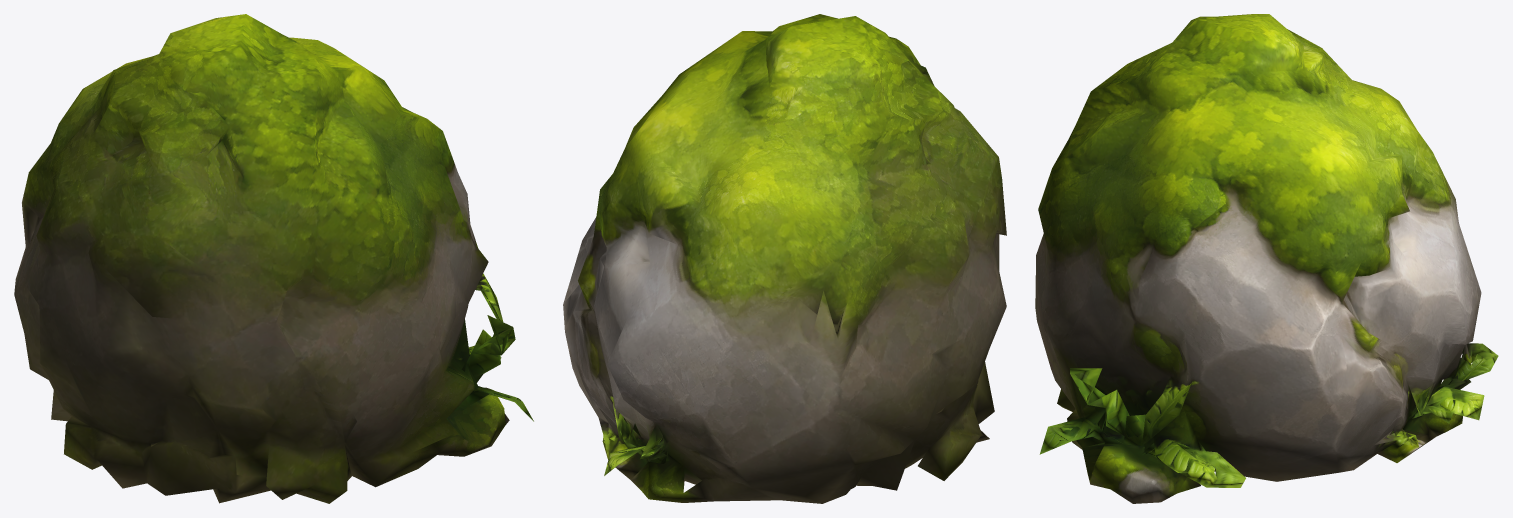
File: W_Boulder_A_raw.glb
The picture shows the model from 3 angles, left to right: view 1: azimuth 30°, elevation 25°; view 2: azimuth 150°, elevation 25°; view 3: azimuth 270°, elevation 25°; orthographic projection. The views are drawn at different scales.
Parts seen in each view (by area): view 1: tripo_node_dba3b626-55ec-4931-a5ba-25a12733e733; view 2: tripo_node_dba3b626-55ec-4931-a5ba-25a12733e733; view 3: tripo_node_dba3b626-55ec-4931-a5ba-25a12733e733.
Boxes of the visible parts, box(x1,y1,x2,y2) form: tripo_node_dba3b626-55ec-4931-a5ba-25a12733e733: box(14, 14, 533, 503); tripo_node_dba3b626-55ec-4931-a5ba-25a12733e733: box(563, 14, 1006, 503); tripo_node_dba3b626-55ec-4931-a5ba-25a12733e733: box(1035, 14, 1498, 503).
Size of the model in its own units: 0.9427 by 0.9124 by 1.
1 material, 1 textured.
